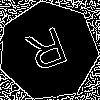R: (23, 26, 74, 81)
